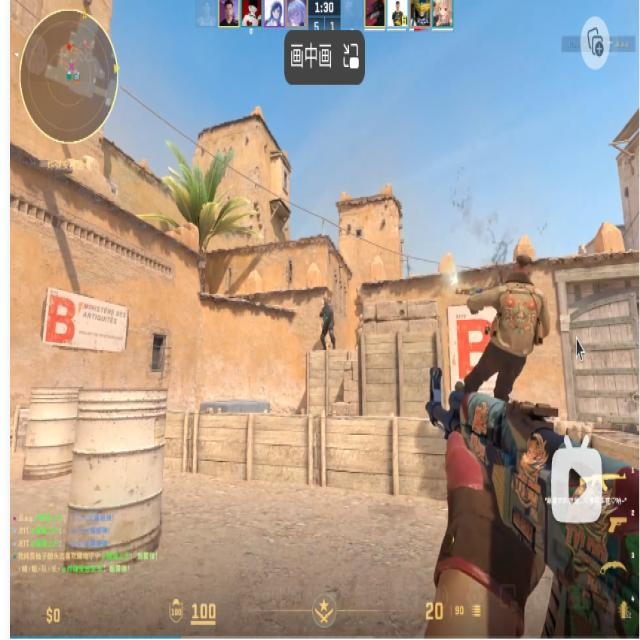person2: (319, 302, 336, 351)
